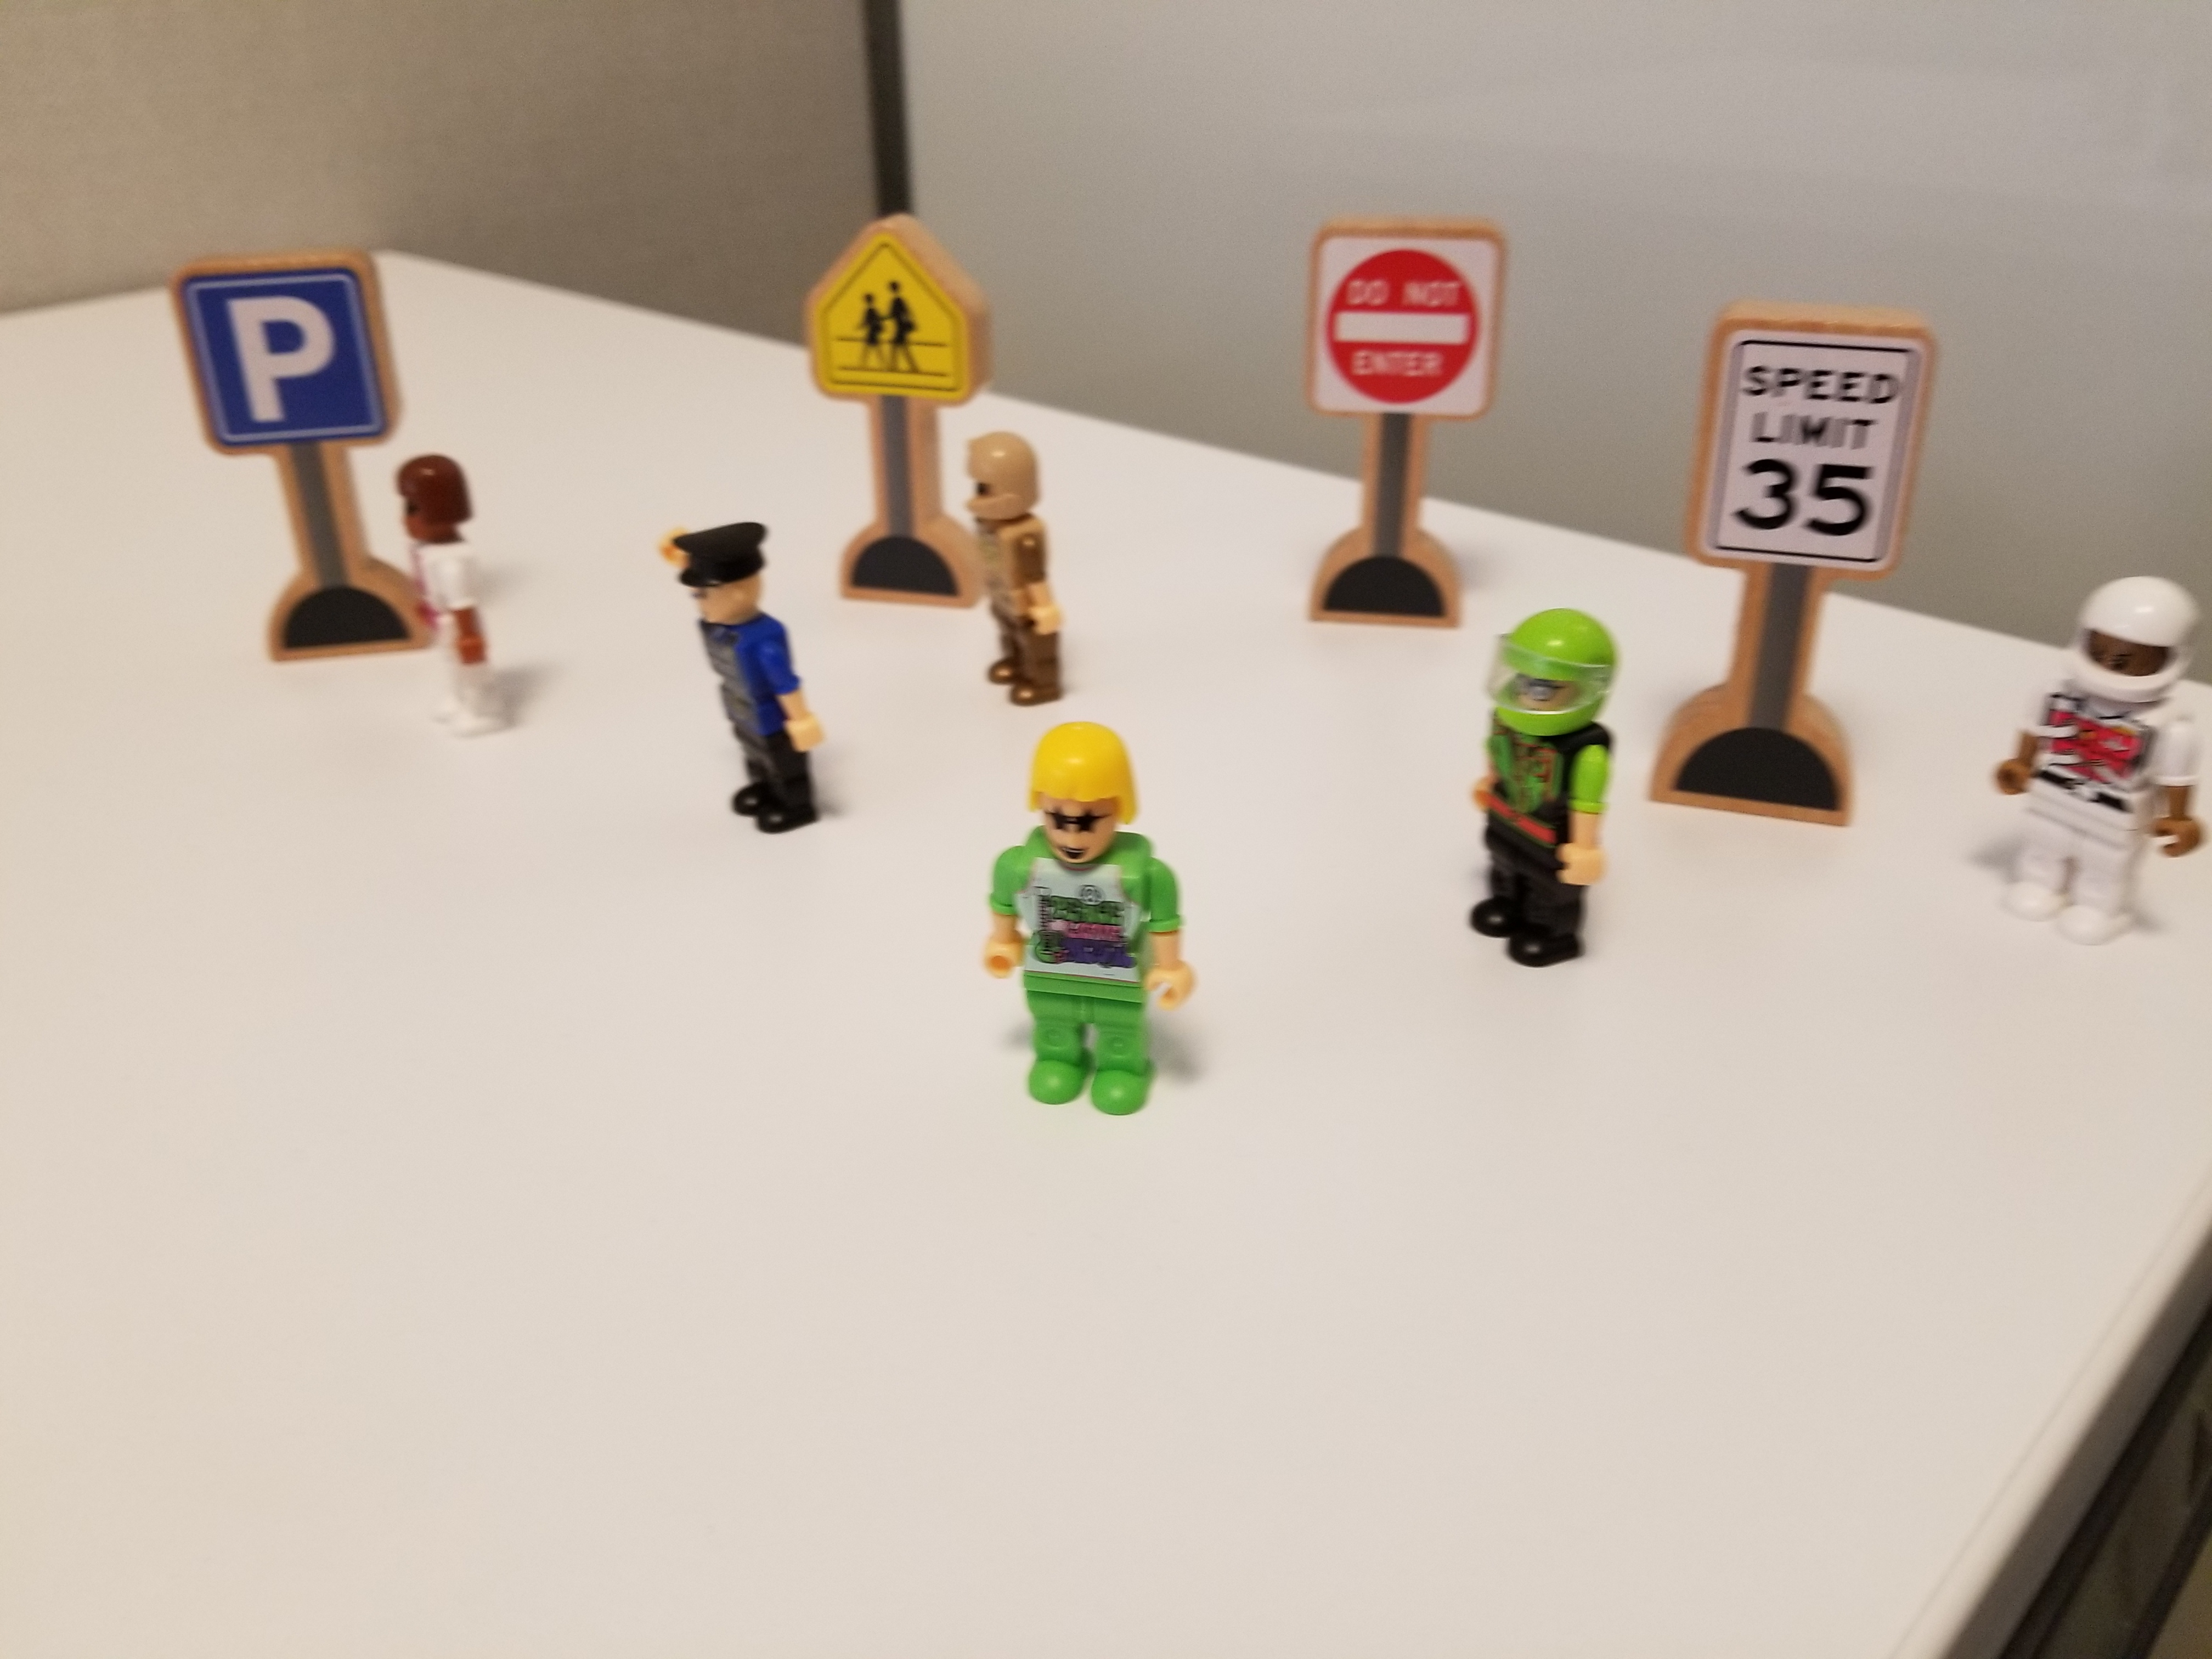Do not enter: (1261, 150, 1520, 515)
Parking: (142, 234, 416, 460)
Pedestrian crossing: (756, 163, 993, 427)
Speed limit 35: (1682, 275, 1943, 848)
person: (984, 719, 1217, 1177), (1998, 530, 2212, 949), (631, 484, 850, 879), (1447, 578, 1638, 991), (368, 447, 510, 795), (951, 405, 1090, 714)
